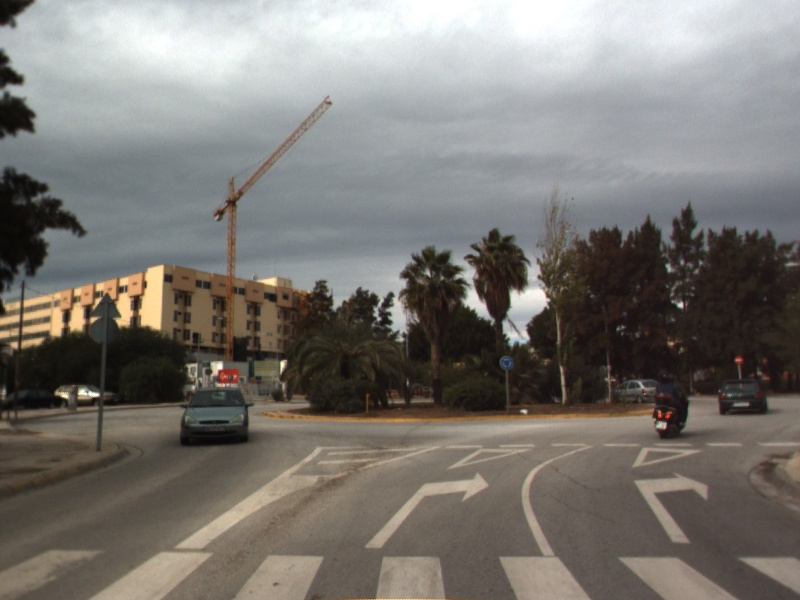RIGHT: (363, 470, 491, 550), (631, 470, 710, 545)
